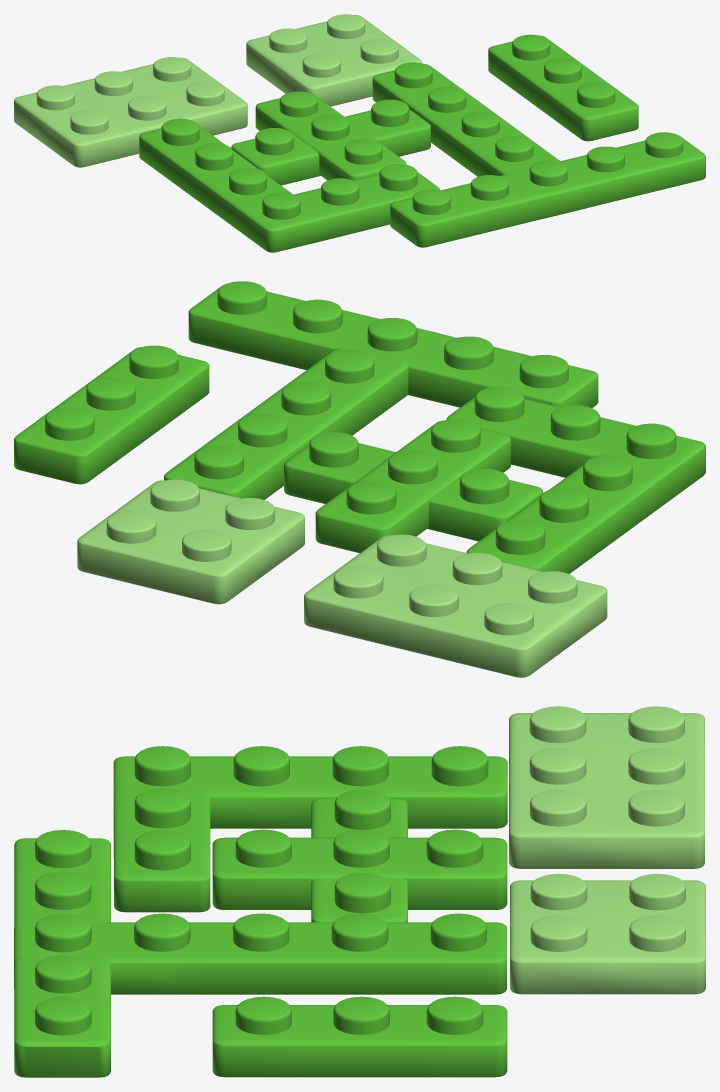
File: 2x2_3x3_T_Plus_L.fbx
The picture shows the model from 3 angles, top to bottom: view 1: azimuth 30°, elevation 25°; view 2: azimuth 150°, elevation 25°; view 3: azimuth 270°, elevation 25°; orthographic projection. The views are drawn at different scales.
Visible parts, largest first — view 1: T Block, L Block, 3x3Block, Plus Block, 2x2Block, 1x3Block; view 2: T Block, 3x3Block, L Block, Plus Block, 2x2Block, 1x3Block; view 3: T Block, L Block, 3x3Block, Plus Block, 2x2Block, 1x3Block.
Boxes of the visible parts, x1,y1,x2,y2 form: T Block: [372, 62, 705, 247]; L Block: [139, 118, 439, 252]; 3x3Block: [14, 57, 247, 167]; Plus Block: [231, 91, 430, 185]; 2x2Block: [246, 14, 421, 106]; 1x3Block: [488, 34, 638, 141]; T Block: [164, 281, 598, 499]; 3x3Block: [304, 534, 607, 677]; L Block: [446, 386, 705, 573]; Plus Block: [284, 419, 542, 553]; 2x2Block: [77, 479, 304, 604]; 1x3Block: [14, 345, 209, 484]; T Block: [14, 830, 506, 1077]; L Block: [113, 746, 507, 912]; 3x3Block: [509, 706, 704, 868]; Plus Block: [212, 789, 507, 922]; 2x2Block: [510, 873, 705, 994]; 1x3Block: [212, 996, 507, 1077].
Bounding box in the file's own units: 455 × 33.6 × 399.
